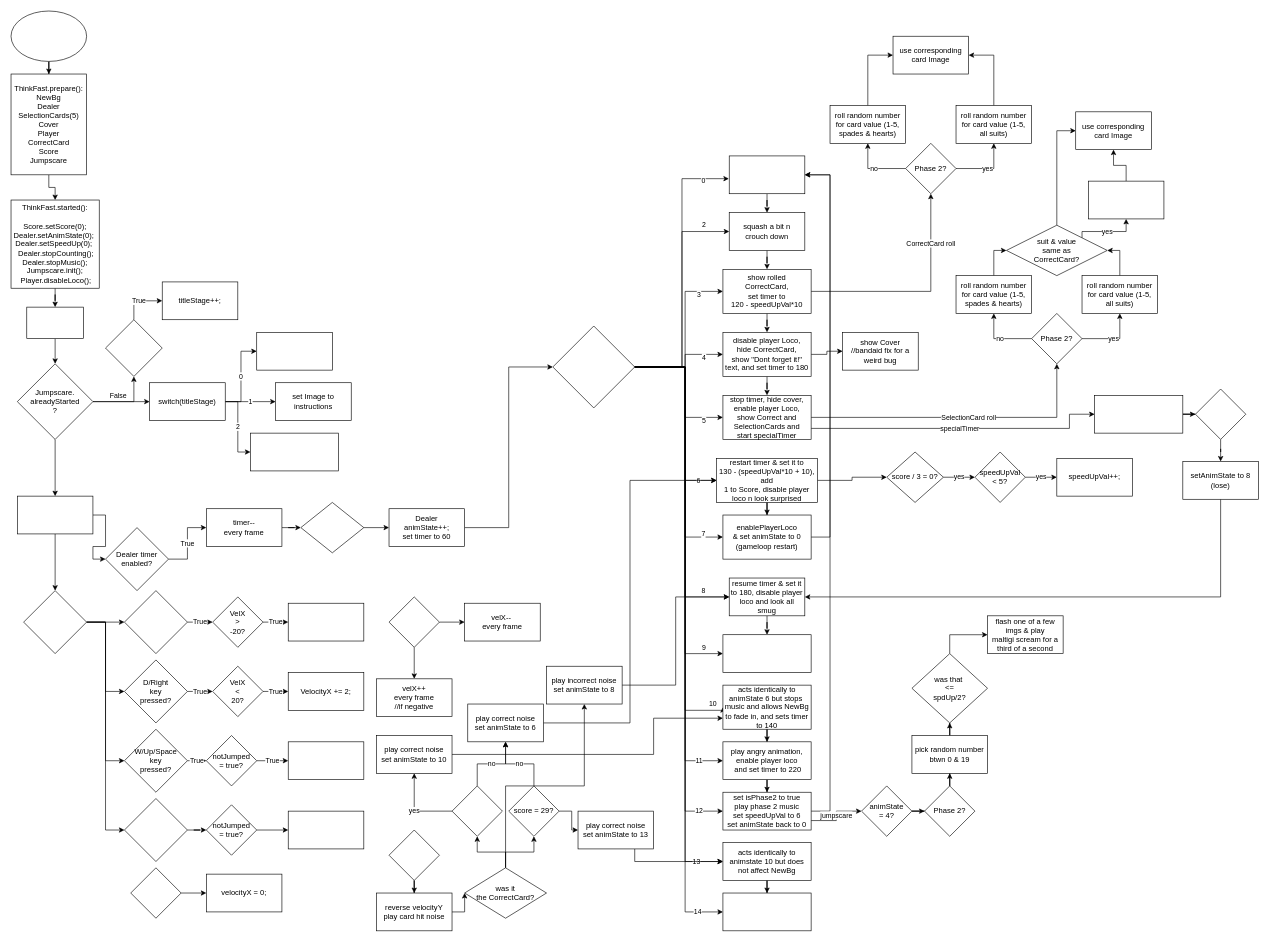
This 1269x942 diagram has some shape labels left out. The box of each missing label's shape, as (x1, y1, x2, y2) in pixels:
A/Left key pressed?: (124, 590, 187, 654)
Actors.act(): (26, 306, 83, 339)
acts identically to animstate 9 but plays win jingle and displays "YOU WIN!": (722, 892, 811, 931)
Dealer switch(animState): (552, 325, 635, 408)
Dealer timer == 0?: (300, 502, 364, 553)
Display "GAME OVER" text and stop timer, meaning game is pretty much finished: (722, 634, 811, 673)
enable player loco, set timer to 180 and dont do much else: (729, 155, 805, 194)
gameloop starts: (17, 495, 93, 534)
math.abs (velX) = 1?: (130, 867, 181, 918)
Player locomotion enabled?: (23, 590, 87, 654)
Player touching Card?: (388, 829, 439, 880)
Program Start: (10, 10, 87, 61)
S/Down key pressed?: (124, 798, 187, 862)
score = 14?: (451, 785, 502, 836)
set Image to title screen: (256, 332, 332, 370)
set to 600 - (speedUpVal*60), subtract 1 each frame: (1094, 395, 1183, 433)
Space key pressed?: (105, 319, 162, 376)
specialTimer == 0?: (1195, 388, 1246, 439)
squash = 60;: (288, 810, 364, 849)
start everything else, set transparency to 0 and set alreadyStarted to true: (250, 432, 339, 471)
subtract 1 from suit & use abs value of suit num: (1088, 180, 1164, 219)
VelocityX -= 2;: (288, 603, 364, 641)
VelocityY = -31; squash = -26: (288, 741, 364, 780)
velX > 0?: (388, 596, 439, 647)
